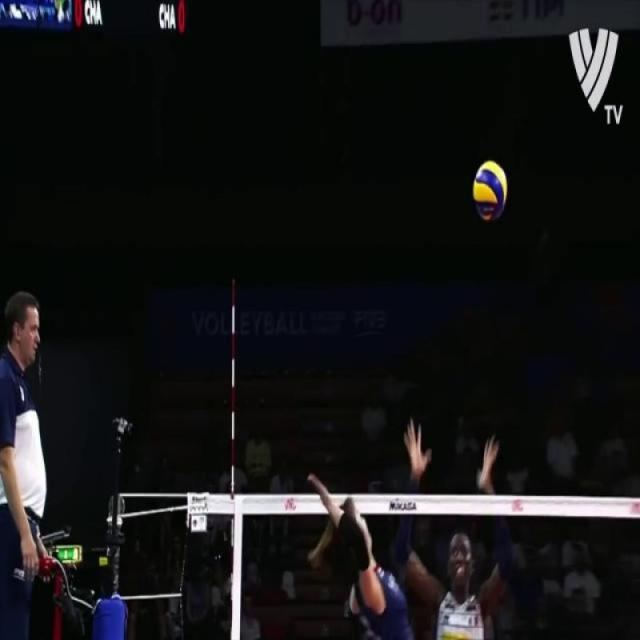volleyball: (472, 157, 507, 222)
